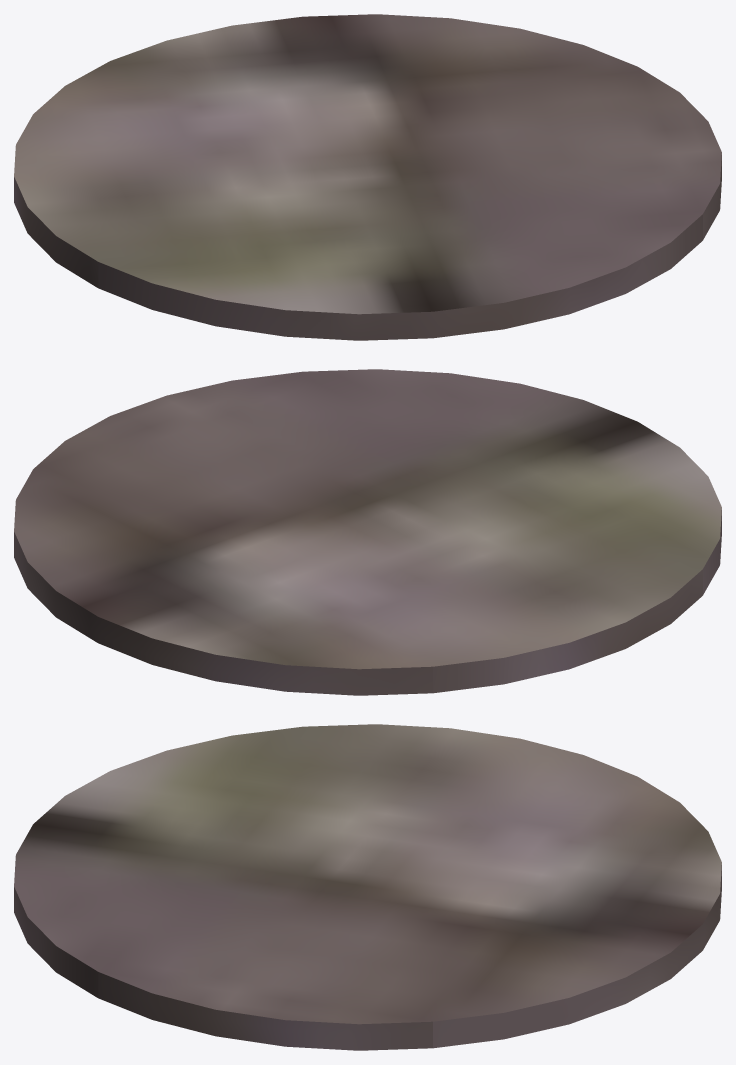
Rendered from Pltfrm3_Cylinder.fbx.
The picture shows the model from 3 angles, top to bottom: view 1: azimuth 30°, elevation 25°; view 2: azimuth 150°, elevation 25°; view 3: azimuth 270°, elevation 25°; orthographic projection.
Parts seen in each view (by area): view 1: Pltfrm3_Cylinder; view 2: Pltfrm3_Cylinder; view 3: Pltfrm3_Cylinder.
Boxes of the visible parts, x1=… form: Pltfrm3_Cylinder: x1=14, y1=14, x2=721, y2=340; Pltfrm3_Cylinder: x1=14, y1=369, x2=721, y2=695; Pltfrm3_Cylinder: x1=14, y1=724, x2=721, y2=1050.
Size of the model in its own units: 24.23 by 1 by 24.16.
